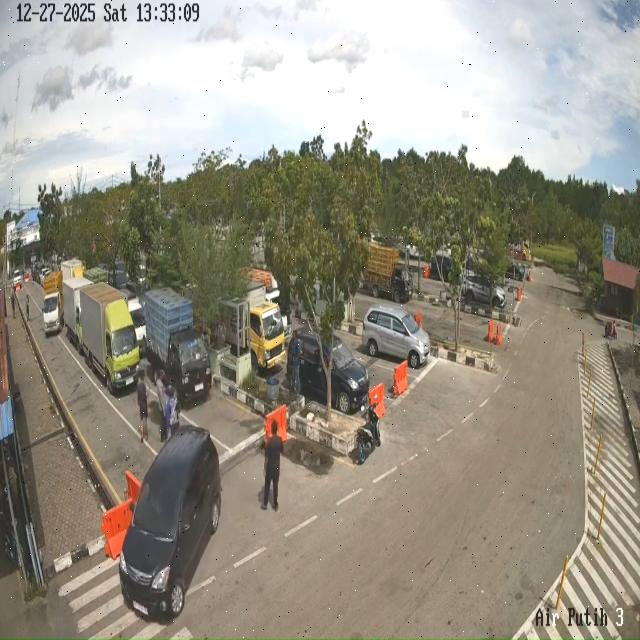Golongan IVA: (119, 425, 222, 617), (286, 327, 370, 414), (362, 304, 430, 368), (462, 271, 506, 309)
Golongan IVB: (142, 288, 212, 401), (362, 243, 413, 303), (42, 271, 64, 335)
Golongan VB: (80, 283, 140, 394), (62, 277, 94, 352)
